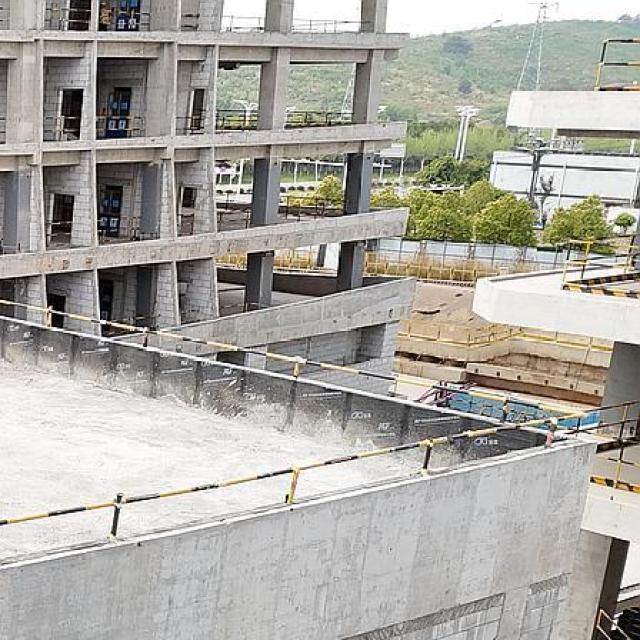edge_guardrail: (0, 299, 590, 540), (560, 400, 640, 490), (560, 232, 640, 297), (591, 36, 640, 93), (277, 196, 346, 221), (591, 608, 632, 640), (97, 216, 142, 245), (104, 314, 160, 336), (99, 9, 151, 32), (44, 7, 90, 32), (285, 110, 355, 126), (96, 116, 146, 137), (292, 18, 362, 33), (42, 116, 81, 141), (216, 109, 260, 127), (223, 15, 266, 32), (217, 211, 252, 229), (175, 116, 206, 134), (214, 191, 253, 203), (45, 222, 72, 237), (178, 12, 201, 29), (177, 213, 194, 234), (180, 309, 201, 324), (219, 303, 248, 313), (0, 116, 7, 134)
